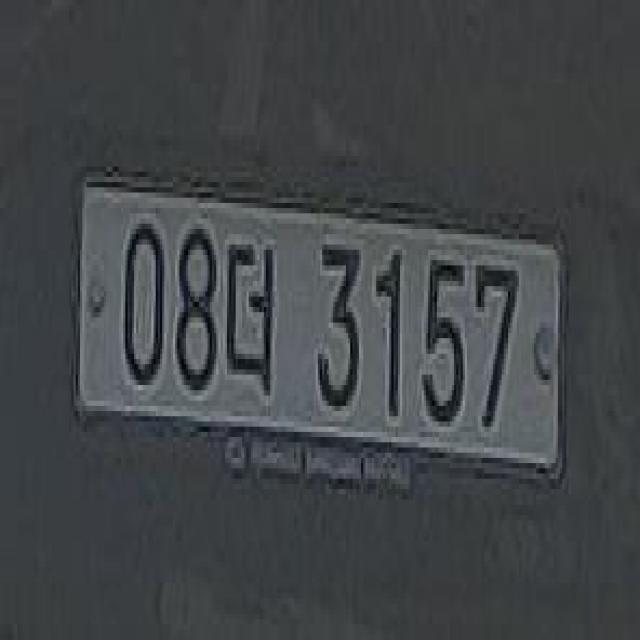illegal_plate: (75, 160, 563, 504)
